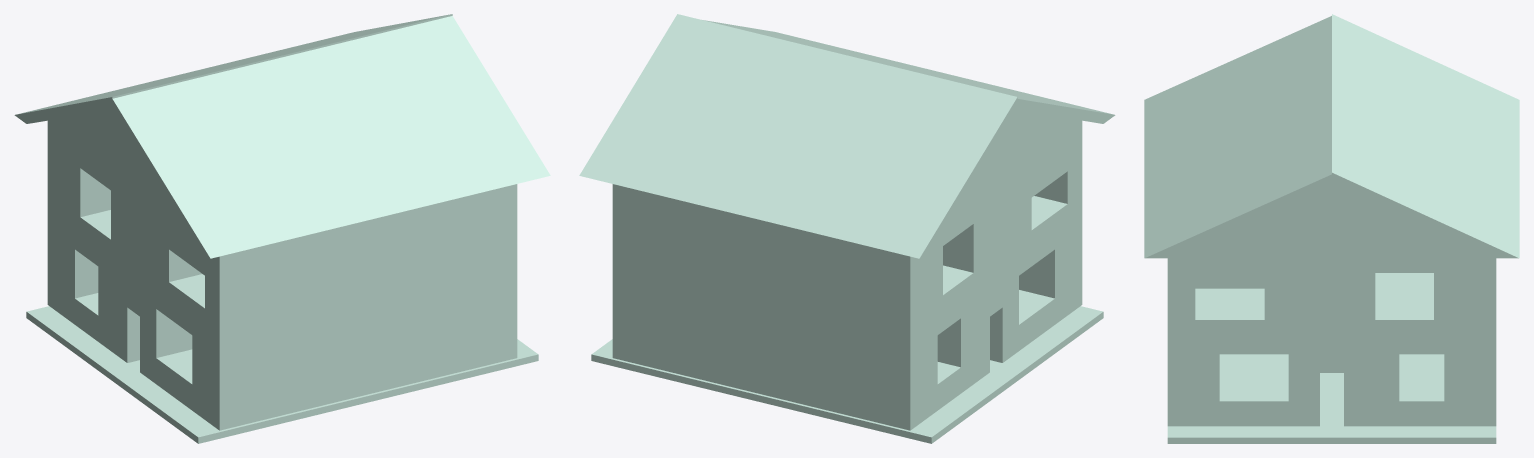
File: expected.gltf
3 renders of one model, left to right at view 1: azimuth 30°, elevation 25°; view 2: azimuth 150°, elevation 25°; view 3: azimuth 270°, elevation 25°, orthographic. The views are drawn at different scales.
Parts seen in each view (by area): view 1: Renderer Node; view 2: Renderer Node; view 3: Renderer Node.
Part boxes in pixels (left/top/right/bottom): Renderer Node: left=14, top=14, right=550, bottom=443; Renderer Node: left=579, top=14, right=1115, bottom=443; Renderer Node: left=1144, top=14, right=1519, bottom=443.
Bounding box in the file's own units: 1.38 × 1.1 × 1.38.
